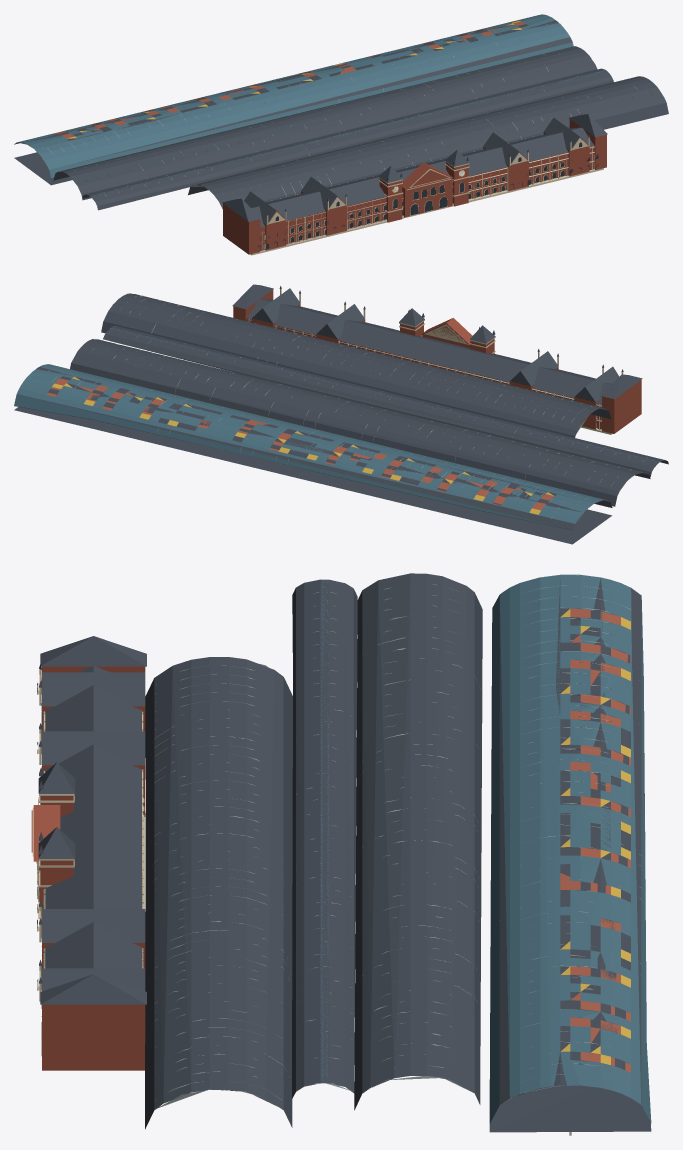
File: centraal-station.lod1.glb
3 renders of one model, top to bottom at view 1: azimuth 30°, elevation 25°; view 2: azimuth 150°, elevation 25°; view 3: azimuth 270°, elevation 25°, orthographic. The views are drawn at different scales.
Parts seen in each view (by area): view 1: centraal-station; view 2: centraal-station; view 3: centraal-station.
Boxes of the visible parts, x1=… form: centraal-station: x1=14, y1=14, x2=668, y2=255; centraal-station: x1=14, y1=284, x2=668, y2=544; centraal-station: x1=31, y1=573, x2=651, y2=1135.
Bounding box in the file's own units: 370 × 34.5 × 186.
